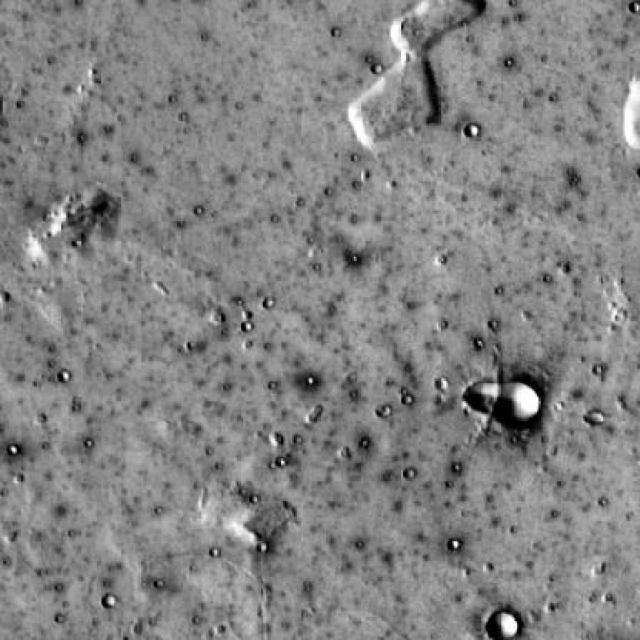crater: (501, 379, 553, 426), (468, 378, 504, 412), (486, 610, 516, 638), (585, 408, 604, 424)
